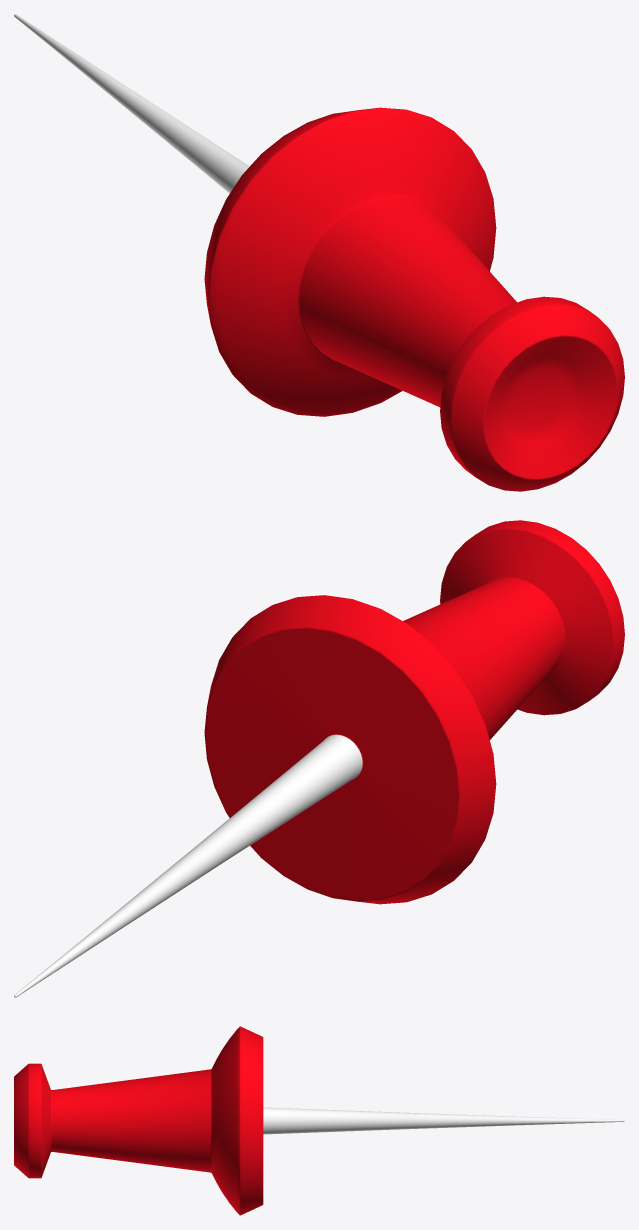
File: pin.glb
The picture shows the model from 3 angles, top to bottom: view 1: azimuth 30°, elevation 25°; view 2: azimuth 150°, elevation 25°; view 3: azimuth 270°, elevation 25°; orthographic projection. The views are drawn at different scales.
Parts seen in each view (by area): view 1: pin; view 2: pin; view 3: pin.
Boxes of the visible parts, box(x1,y1,x2,y2) form: pin: box(14, 14, 624, 491); pin: box(14, 520, 624, 997); pin: box(14, 1026, 624, 1215).
Bounding box in the file's own units: 0.7181 × 0.7181 × 2.32.
